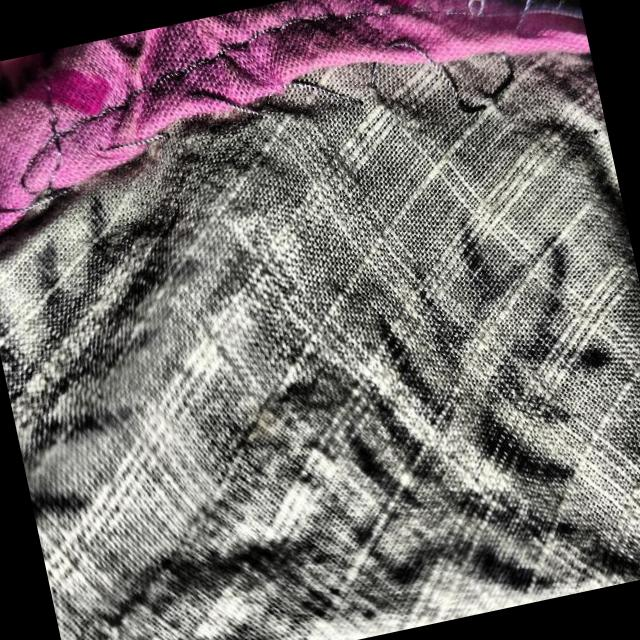gray stitch: (335, 0, 581, 154)
